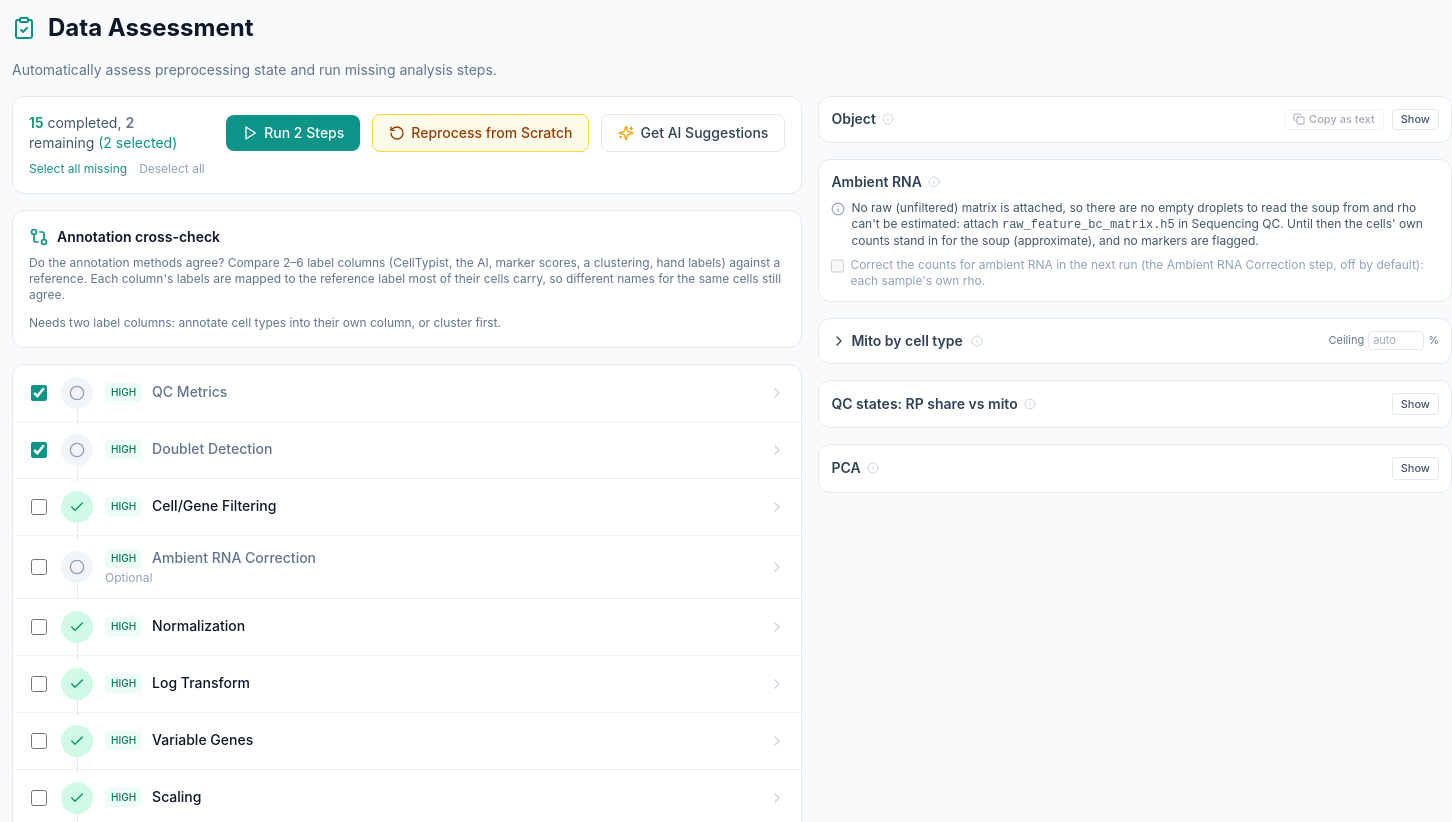
DataAssessmentPanel run progress: watchdog, Cancel, outcome › keeps a completed run's result after the assessment refreshes, with its peak memory
Click the button "Run 2 Steps".
click(293, 133)  # box [226,115,360,151]
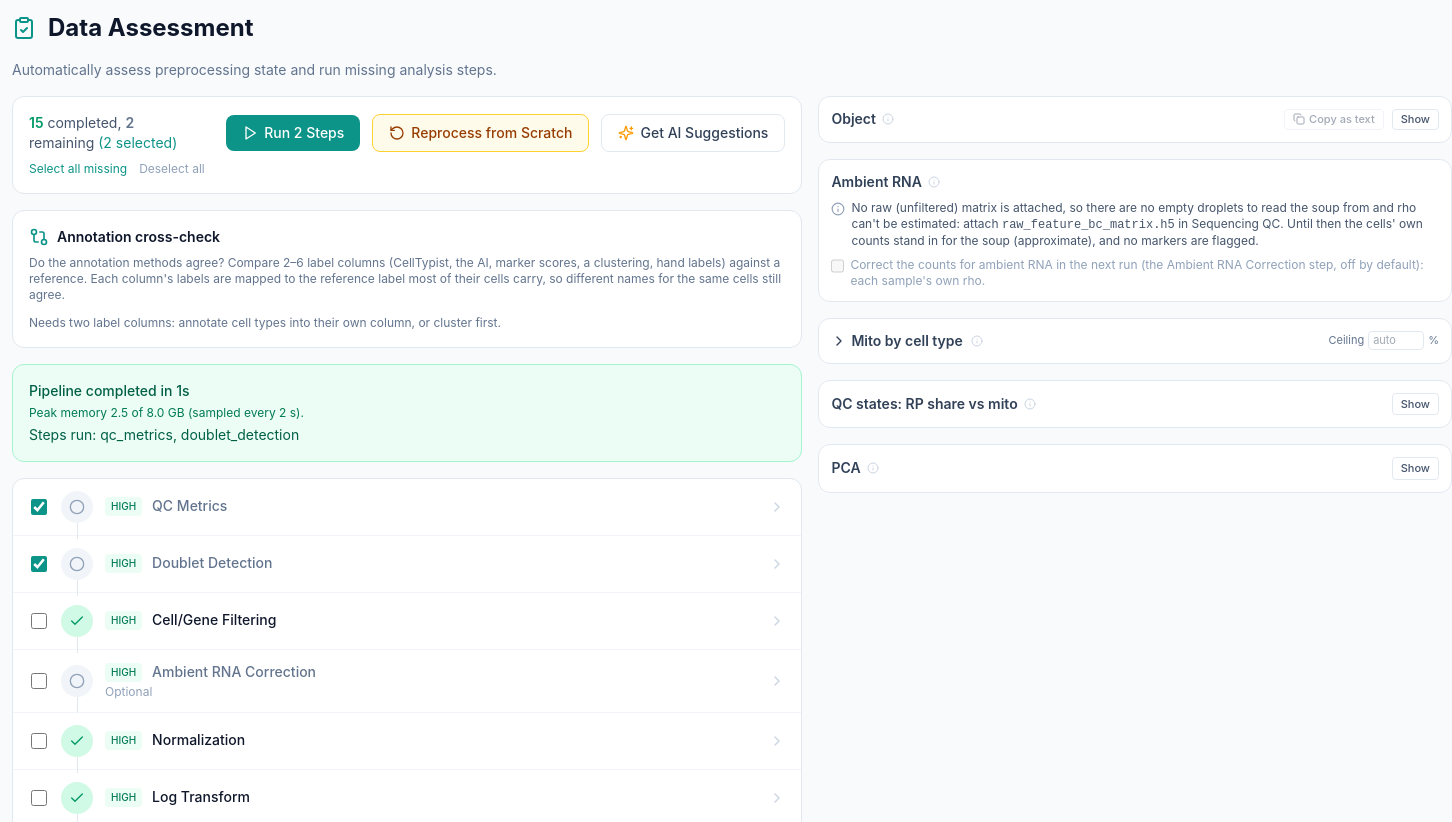
Expected: the text "Pipeline completed in 1s" is shown, [29,382,190,399]
Expected: the text "Peak memory 2.5 of 8.0 GB (sampled every 2 s)." is shown, [29,405,304,420]
